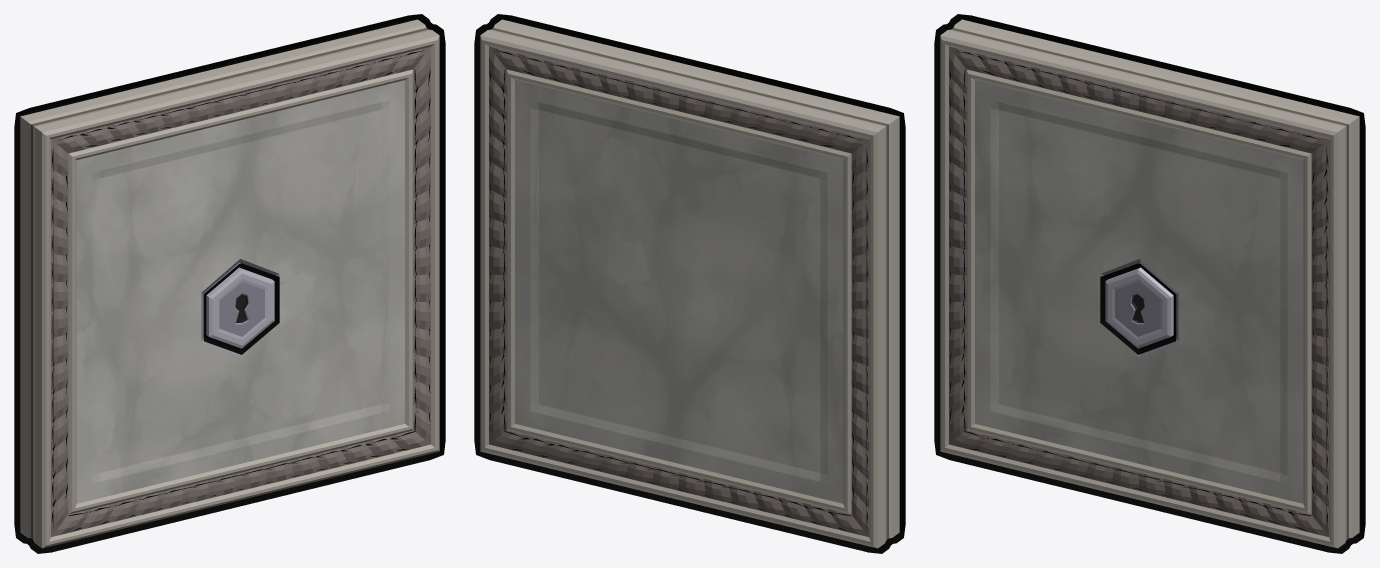
File: locked_door.fbx
The picture shows the model from 3 angles, left to right: view 1: azimuth 30°, elevation 25°; view 2: azimuth 150°, elevation 25°; view 3: azimuth 330°, elevation 25°; orthographic projection.
Visible parts, largest first — view 1: door, door_outline; view 2: door, door_outline; view 3: door, door_outline.
Part boxes in pixels (bbox=[...]): door: bbox=[20, 19, 439, 548]; door_outline: bbox=[14, 14, 445, 553]; door: bbox=[480, 19, 899, 548]; door_outline: bbox=[474, 14, 905, 553]; door: bbox=[940, 19, 1359, 548]; door_outline: bbox=[934, 14, 1365, 553].
Size of the model in its own units: 1081 by 1081 by 115.
